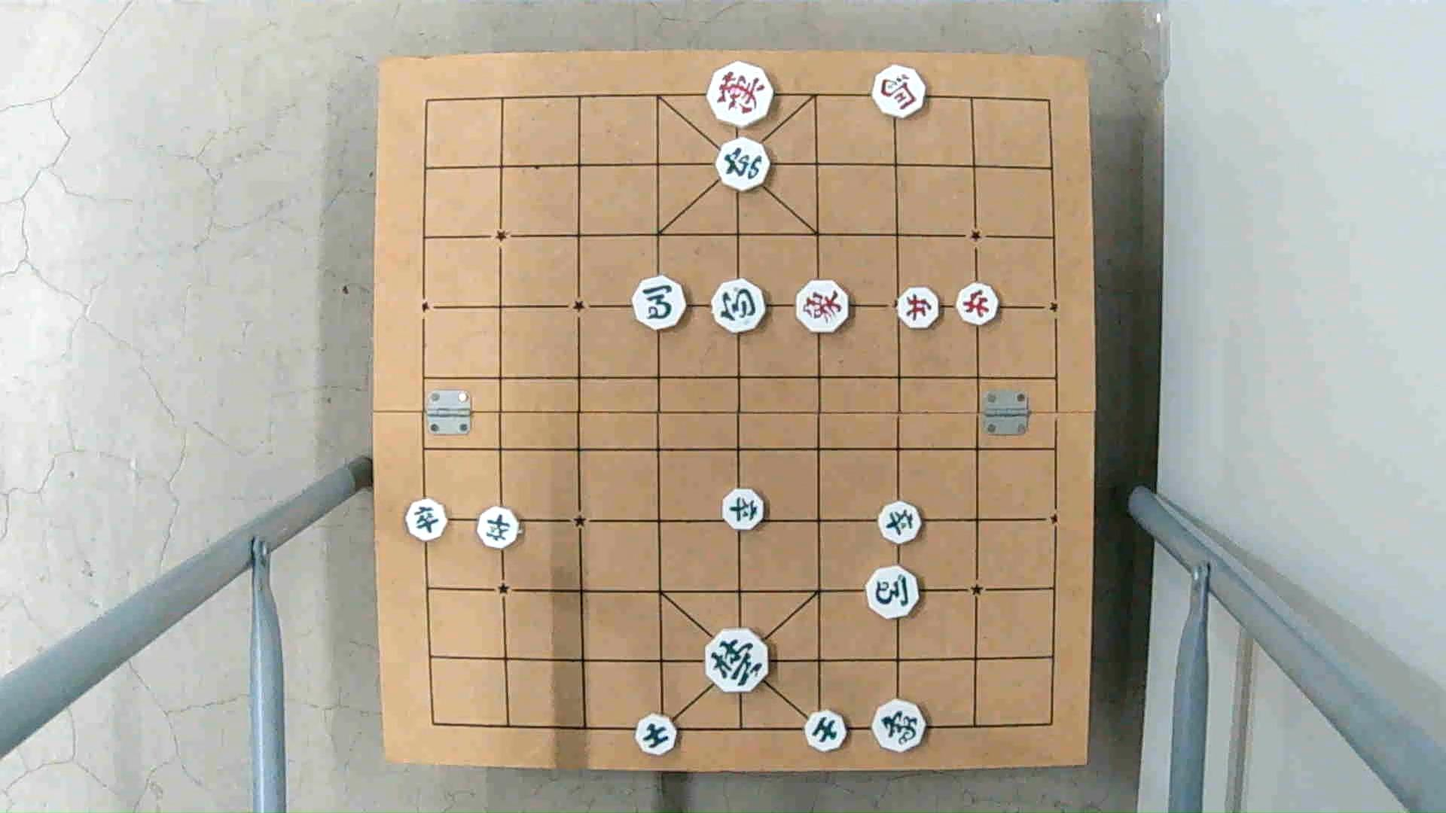cha_green: (715, 139, 770, 187)
jol_green: (475, 508, 523, 549), (403, 498, 449, 540), (718, 490, 767, 528), (876, 503, 923, 541)
jol_red: (955, 282, 999, 326), (899, 287, 939, 326)
ma_green: (865, 570, 922, 620), (631, 278, 689, 327)
ma_red: (871, 66, 929, 114)
po_green: (712, 282, 769, 330)
sa_green: (633, 717, 682, 752), (804, 713, 850, 749)
sang_green: (870, 698, 929, 750)
sang_red: (795, 280, 853, 331)
wang_green: (702, 634, 770, 690)
wang_red: (705, 66, 774, 125)
